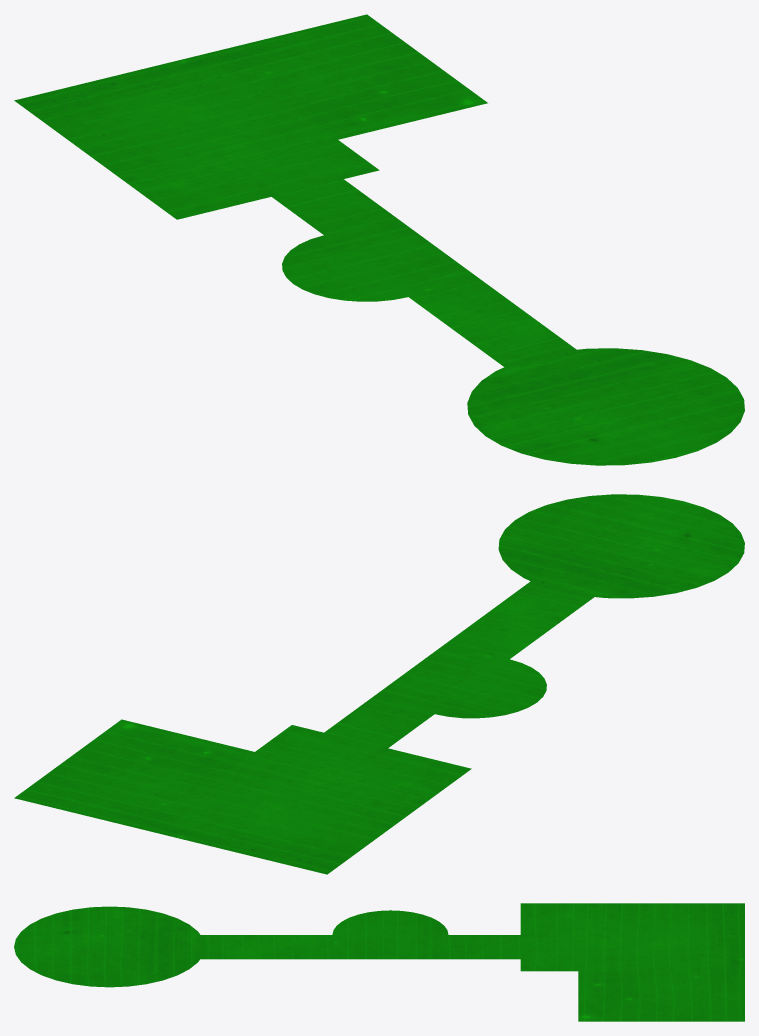
Rendered from floor.glb.
The picture shows the model from 3 angles, top to bottom: view 1: azimuth 30°, elevation 25°; view 2: azimuth 150°, elevation 25°; view 3: azimuth 270°, elevation 25°; orthographic projection. The views are drawn at different scales.
Parts seen in each view (by area): view 1: Plane; view 2: Plane; view 3: Plane.
Part boxes in pixels (x1,y1,x2,y2): Plane: (14,14,744,465); Plane: (14,494,744,874); Plane: (14,903,744,1021).
Bounding box in the file's own units: 29.31 × 0 × 76.43.
1 material, 1 textured.
